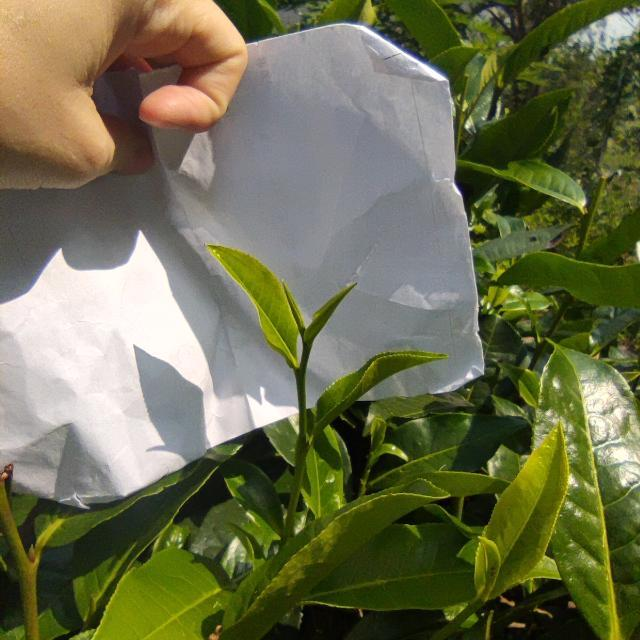Stem: (299, 437, 308, 453)
